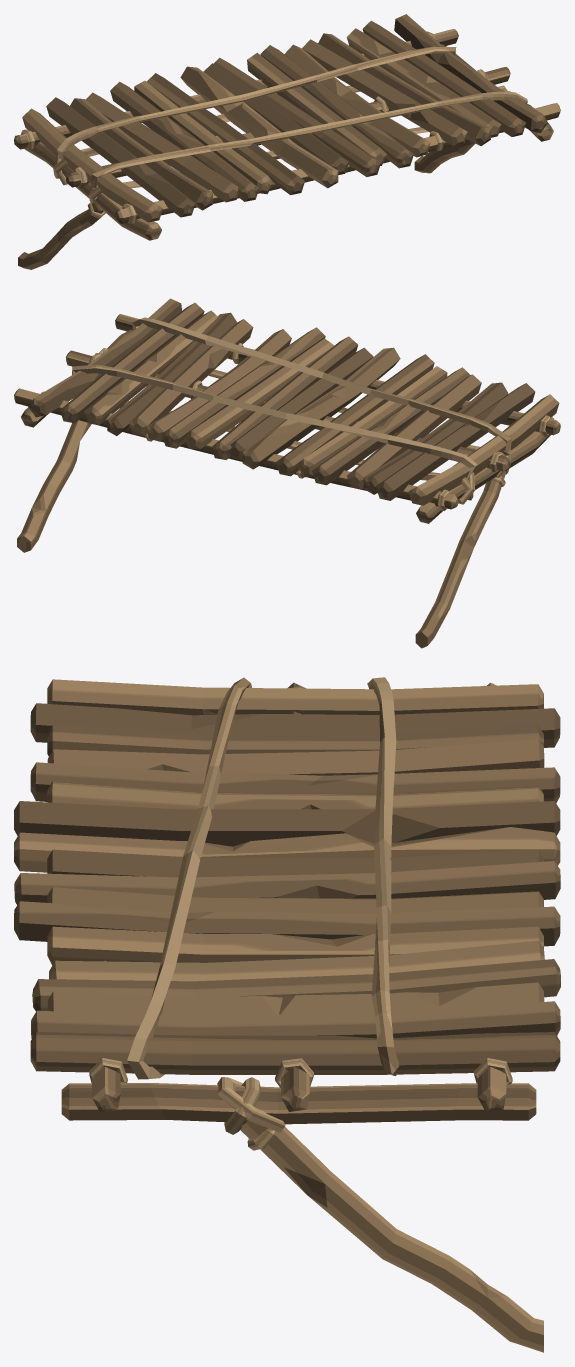
File: SM_Prop_Awning_03.fbx
3 views of the same model, one above another, from view 1: azimuth 30°, elevation 25°; view 2: azimuth 150°, elevation 25°; view 3: azimuth 270°, elevation 25° (orthographic). The views are drawn at different scales.
Visible parts, largest first — view 1: SM_Prop_Awning_03; view 2: SM_Prop_Awning_03; view 3: SM_Prop_Awning_03.
Boxes of the visible parts, box(x1,y1,x2,y2) form: SM_Prop_Awning_03: box(14, 14, 560, 269); SM_Prop_Awning_03: box(14, 298, 560, 648); SM_Prop_Awning_03: box(14, 677, 560, 1352).
Bounding box in the file's own units: 270 × 97.1 × 152.
